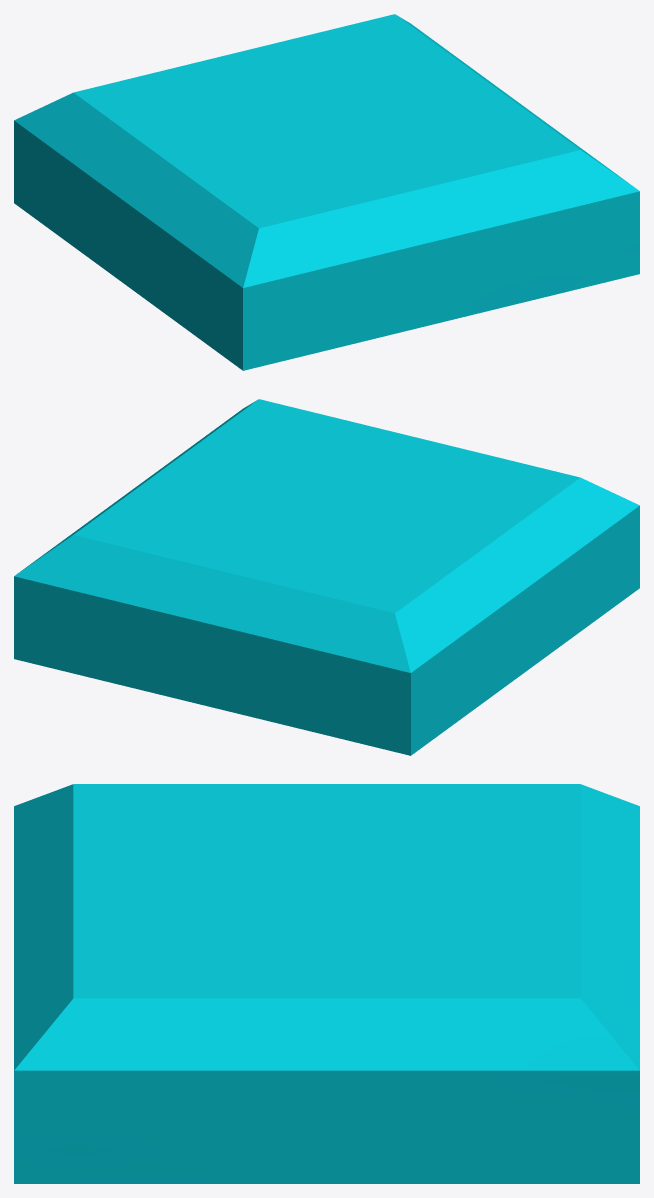
The picture shows the model from 3 angles, top to bottom: view 1: azimuth 30°, elevation 25°; view 2: azimuth 150°, elevation 25°; view 3: azimuth 270°, elevation 25°; orthographic projection. The views are drawn at different scales.
Parts seen in each view (by area): view 1: 1_Cube.001; view 2: 1_Cube.001; view 3: 1_Cube.001.
Boxes of the visible parts, x1,y1,x2,y2 form: 1_Cube.001: (14,14,639,370); 1_Cube.001: (14,399,639,755); 1_Cube.001: (14,784,639,1183).
Size of the model in its own units: 0.2995 by 0.0847 by 0.2995.
